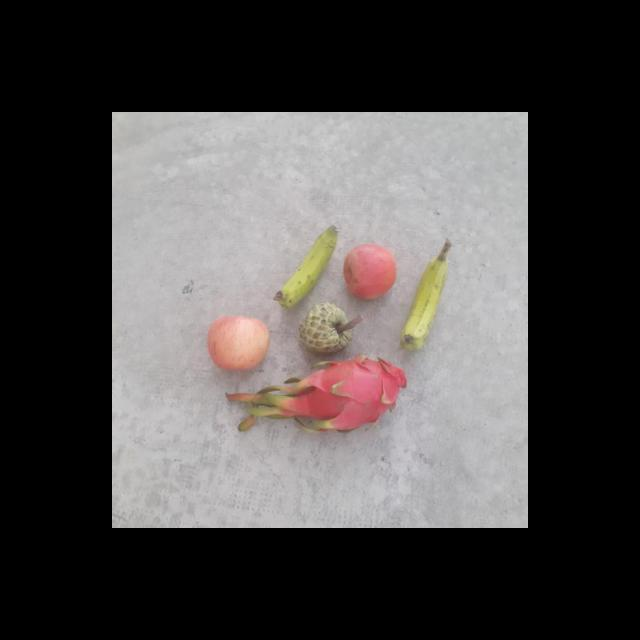Sakya fruit: (300, 298, 354, 358)
apple: (206, 312, 270, 375), (339, 241, 400, 302)
banana: (272, 220, 340, 306), (398, 252, 450, 348)
pitaya: (302, 354, 406, 434)
